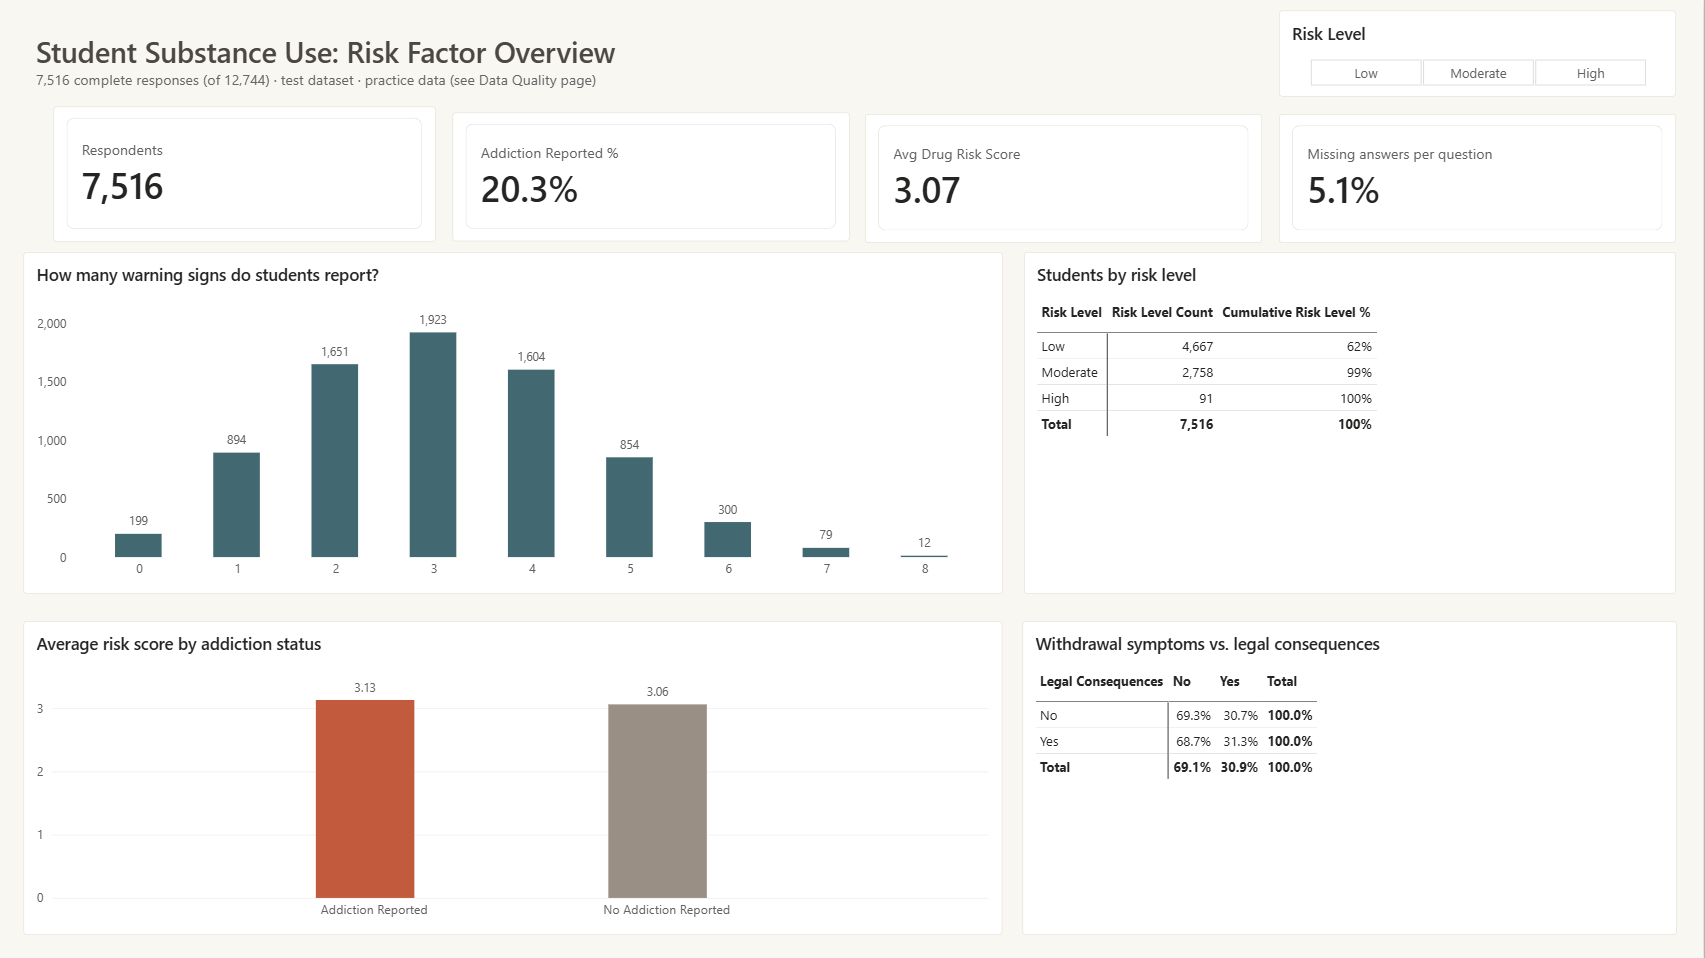

The page's visual inventory and layout, read from the dashboard file:
{"tool":"powerbi","page":{"name":"Overview","canvas":[1920,1080],"ordinal":0},"visuals":[{"type":"clusteredColumnChart","title":"Average risk score by addiction status","fields":{"Category":["student_addiction_dataset_test.Addiction_Class"],"Y":["student_addiction_dataset_test.Avg Drug Risk Score"]},"box":[31.2,697,1099.2,352.4],"z":0},{"type":"pivotTable","title":"Withdrawal symptoms vs. legal consequences","fields":{"Columns":["student_addiction_dataset_test.Withdrawal Symptoms (Label)"],"Rows":["student_addiction_dataset_test.Legal Consequences (Label)"],"Values":["Min(student_addiction_dataset_test.Withdrawal Symptoms (Label))"]},"box":[1153.8,697,734.4,352.4],"z":1000},{"type":"pivotTable","title":"Students by risk level","fields":{"Rows":["student_addiction_dataset_test.Risk Level"],"Values":["student_addiction_dataset_test.Risk Level Count","student_addiction_dataset_test.Risk Level Cumulative %"]},"box":[1155.4,283.8,732,384],"z":2000},{"type":"clusteredColumnChart","title":"How many warning signs do students report?","fields":{"Category":["student_addiction_dataset_test.Drug Risk Score"],"Y":["student_addiction_dataset_test.Respondent Count"]},"box":[31.5,283.3,1100,384],"z":3000},{"type":"slicer","title":"Risk Level","fields":{"Values":["student_addiction_dataset_test.Risk Level"]},"box":[1442.3,12.5,445.9,96.7],"z":4000},{"type":"textbox","box":[1314,930,150,150],"z":5000},{"type":"textbox","box":[1314,930,150,150],"z":6000},{"type":"textbox","box":[32,24,606,64],"z":8000},{"type":"textbox","title":"Header – Title","box":[31.5,24.1,694.4,103.7],"z":9000},{"type":"cardVisual","title":"Card – Respondents","fields":{"Data":["student_addiction_dataset_test.Respondent Count"]},"box":[65.5,120.1,429.6,151.9],"z":10000},{"type":"cardVisual","title":"Card – Addiction Reported","fields":{"Data":["student_addiction_dataset_test.Addiction Reported %"]},"box":[514.5,126.3,446.3,144.4],"z":11000},{"type":"cardVisual","title":"Card – Avg Risk Score","fields":{"Data":["student_addiction_dataset_test.Avg Drug Risk Score"]},"box":[977.6,127.9,446.3,144.4],"z":12000},{"type":"cardVisual","title":"Card – Missing Answers","fields":{"Data":["student_addiction_dataset_test.Avg Missing % per Question"]},"box":[1442.3,127.9,446.3,144.4],"z":13000}]}

Visuals, with their boxes in screenshot pixels (x1, y1, x2, y2), scaled from the page's 1920x1080 canvas onto the 1705x958 screenshot:
"Average risk score by addiction status" clusteredColumnChart: 28:618:1004:931
"Withdrawal symptoms vs. legal consequences" pivotTable: 1025:618:1677:931
"Students by risk level" pivotTable: 1026:252:1676:592
"How many warning signs do students report?" clusteredColumnChart: 28:251:1005:592
"Risk Level" slicer: 1281:11:1677:97
textbox: 1167:825:1300:957
textbox: 1167:825:1300:957
textbox: 28:21:567:78
"Header – Title" textbox: 28:21:645:113
"Card – Respondents" cardVisual: 58:107:440:241
"Card – Addiction Reported" cardVisual: 457:112:853:240
"Card – Avg Risk Score" cardVisual: 868:113:1264:242
"Card – Missing Answers" cardVisual: 1281:113:1677:242
